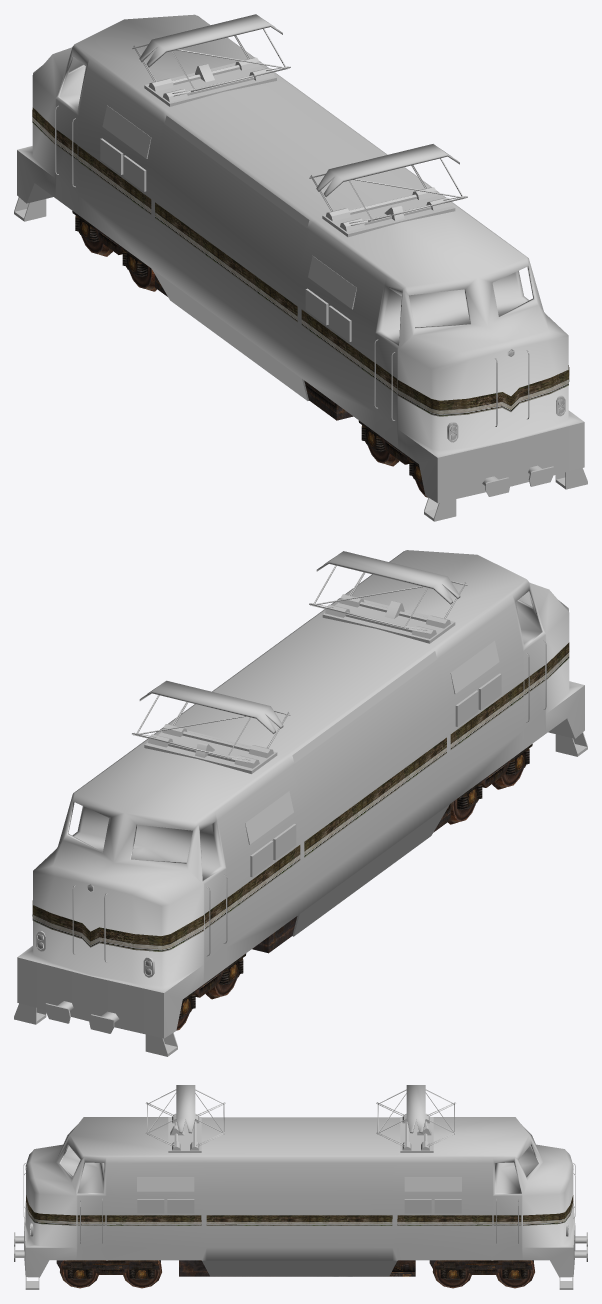
The model's file is Model_Trains_Locomotive_Transport.fbx.
3 views of the same model, one above another, from view 1: azimuth 30°, elevation 25°; view 2: azimuth 150°, elevation 25°; view 3: azimuth 270°, elevation 25° (orthographic). The views are drawn at different scales.
Visible parts, largest first — view 1: Train_Transport_Dubbel_LOD0; view 2: Train_Transport_Dubbel_LOD0; view 3: Train_Transport_Dubbel_LOD0.
Part boxes in pixels (x1,y1,x2,y2): Train_Transport_Dubbel_LOD0: (14, 14, 587, 521); Train_Transport_Dubbel_LOD0: (14, 550, 587, 1056); Train_Transport_Dubbel_LOD0: (14, 1085, 587, 1289).
Size of what is drawn, in the model's own units: 284 by 474 by 1406.
